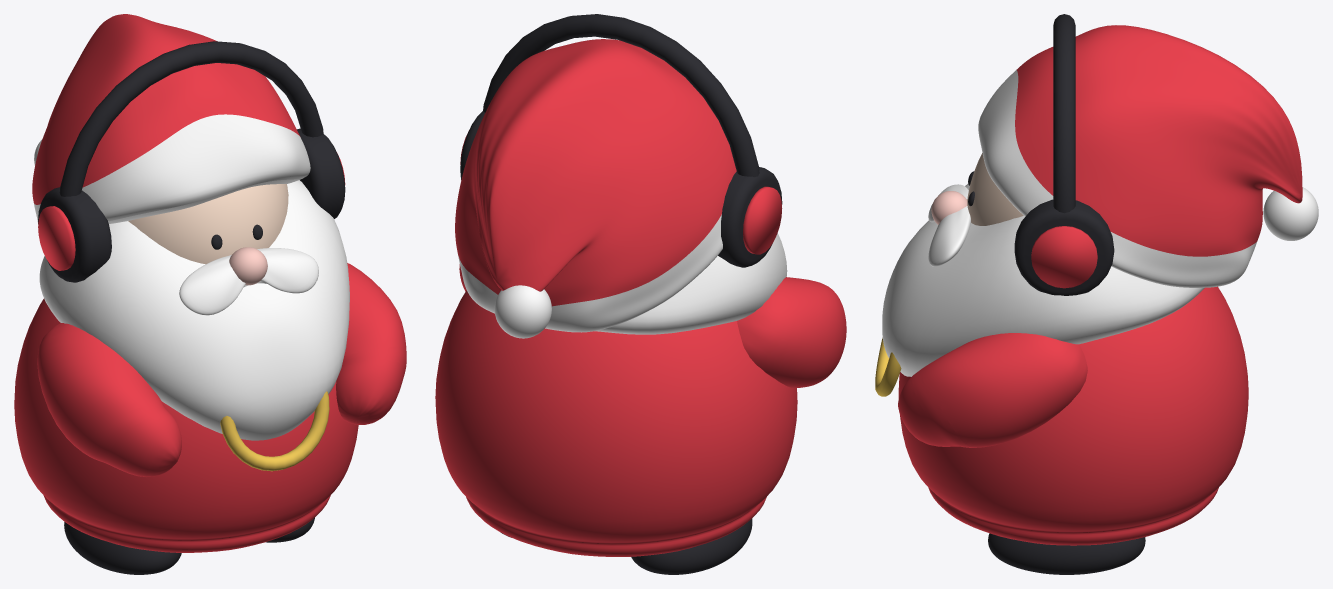
The picture shows the model from 3 angles, left to right: view 1: azimuth 30°, elevation 25°; view 2: azimuth 150°, elevation 25°; view 3: azimuth 270°, elevation 25°; orthographic projection. The views are drawn at different scales.
Visible parts, largest first — view 1: dj_red, dj_white, dj_black, dj_skin, dj_gold, dj_nose; view 2: dj_red, dj_white, dj_black; view 3: dj_red, dj_white, dj_black, dj_skin, dj_gold, dj_nose.
Part boxes in pixels (<box>): dj_red: <box>14,14,406,552</box>; dj_white: <box>34,114,349,440</box>; dj_black: <box>38,41,345,574</box>; dj_skin: <box>128,184,288,264</box>; dj_gold: <box>220,391,329,471</box>; dj_nose: <box>229,247,267,285</box>; dj_red: <box>435,39,846,556</box>; dj_white: <box>457,214,787,338</box>; dj_black: <box>460,14,782,574</box>; dj_red: <box>898,25,1302,545</box>; dj_white: <box>882,70,1318,376</box>; dj_black: <box>968,14,1145,574</box>; dj_skin: <box>967,153,1023,225</box>; dj_gold: <box>875,338,901,396</box>; dj_nose: <box>931,191,967,224</box>.
Size of the model in its own units: 2.14 by 2.99 by 2.41.
